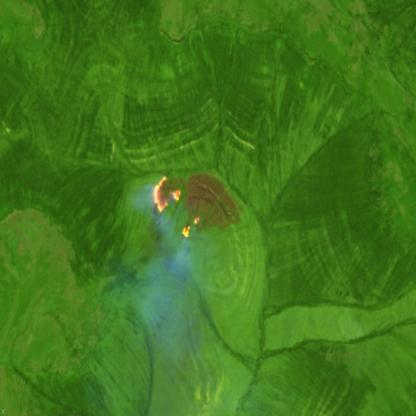fire: (152, 171, 204, 243)
